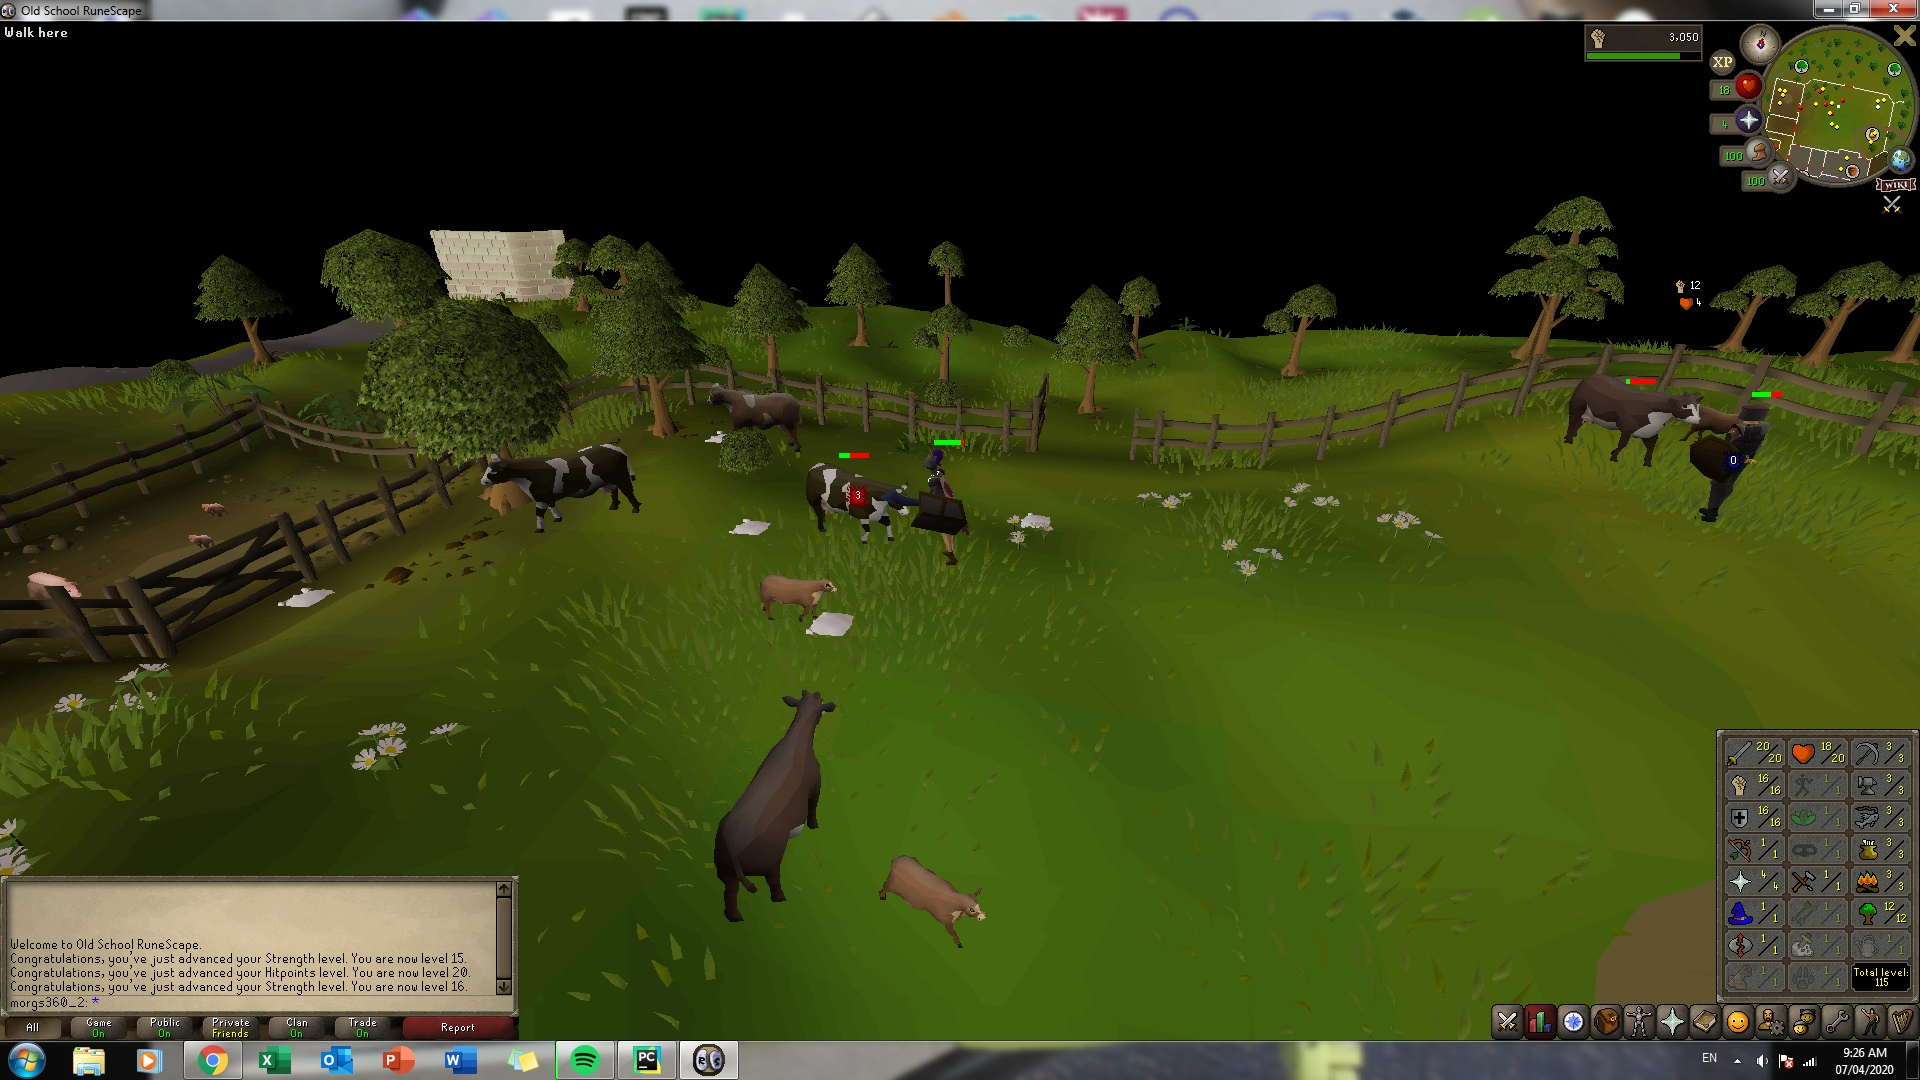cow: (709, 680, 836, 925), (481, 442, 640, 532), (1558, 370, 1703, 464), (881, 854, 985, 950), (798, 464, 913, 549), (706, 382, 807, 456), (752, 566, 840, 623)
player: (921, 449, 971, 570)
